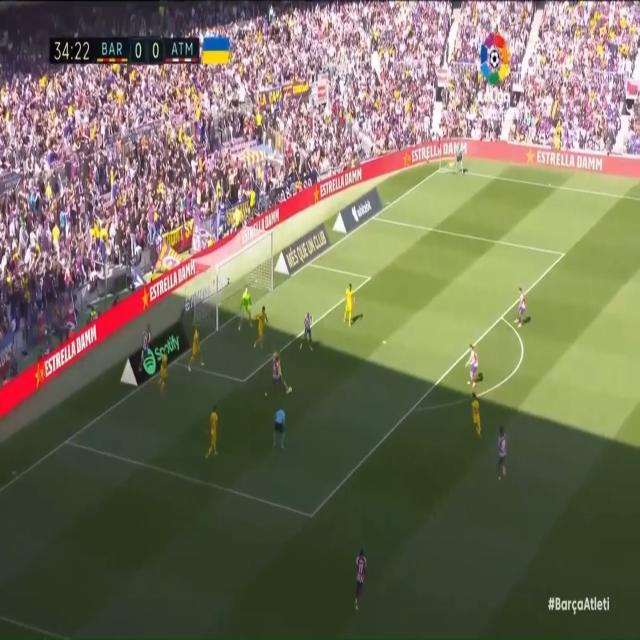ball: (287, 383, 293, 398)
goalkeeper: (230, 283, 256, 333)
player: (340, 537, 365, 626), (204, 394, 222, 469), (493, 416, 510, 494), (464, 388, 486, 443), (261, 344, 280, 404), (187, 318, 205, 380), (295, 309, 316, 362), (512, 272, 529, 336), (338, 276, 356, 333), (255, 299, 272, 359), (277, 344, 293, 404), (157, 339, 173, 395), (467, 335, 483, 387), (139, 315, 152, 375)
referee: (269, 398, 290, 465), (446, 131, 463, 175)
